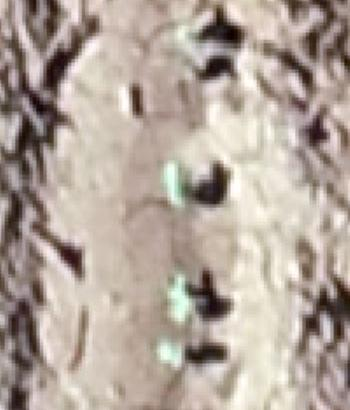cotton: (164, 275, 188, 313), (166, 166, 188, 198), (157, 340, 184, 366)
